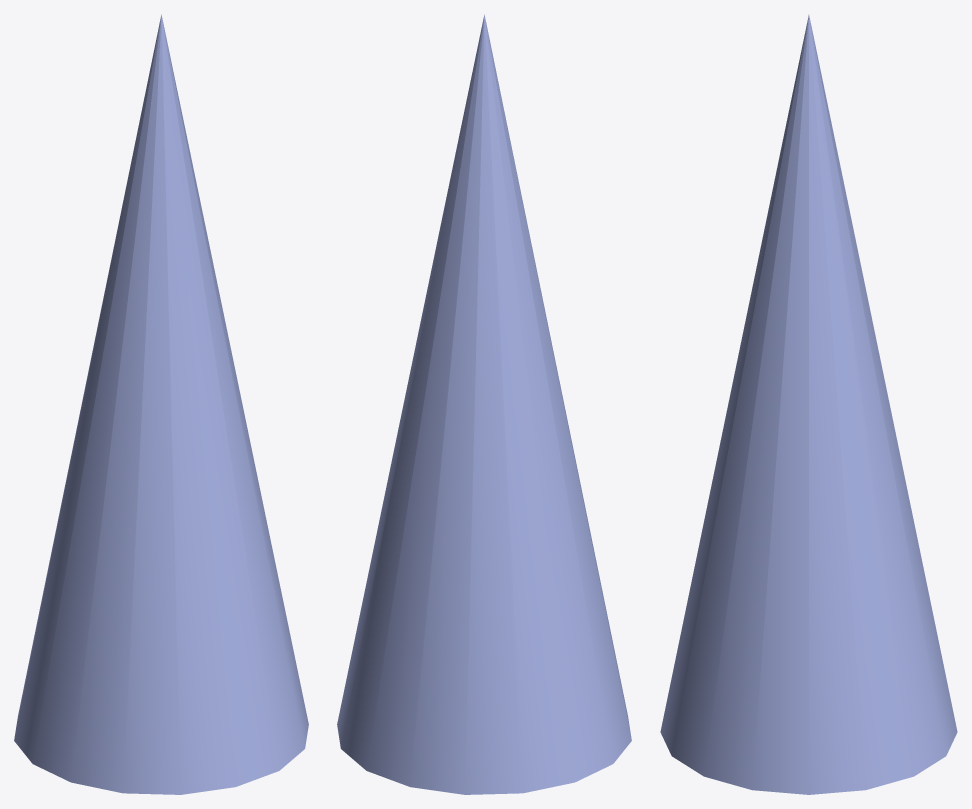
File: baron_fx.glb
3 renders of one model, left to right at view 1: azimuth 30°, elevation 25°; view 2: azimuth 150°, elevation 25°; view 3: azimuth 270°, elevation 25°, orthographic.
Visible parts, largest first — view 1: baron_shimmer_cone; view 2: baron_shimmer_cone; view 3: baron_shimmer_cone.
Boxes of the visible parts, x1,y1,x2,y2 form: baron_shimmer_cone: [14, 14, 308, 794]; baron_shimmer_cone: [337, 14, 631, 794]; baron_shimmer_cone: [660, 15, 957, 794].
Bounding box in the file's own units: 1.2 × 3.2 × 1.2.
